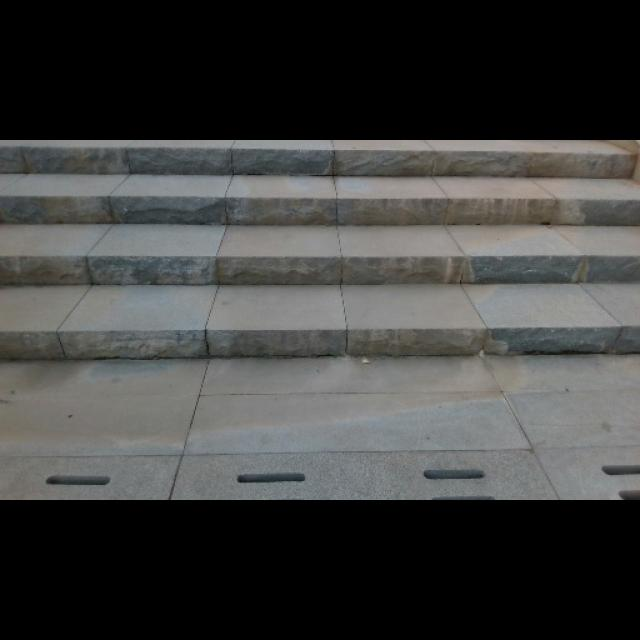Stairs: (0, 140, 639, 360)
